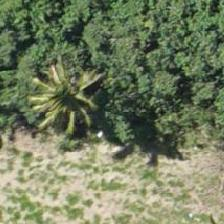coconut_tree: (18, 45, 108, 135)
